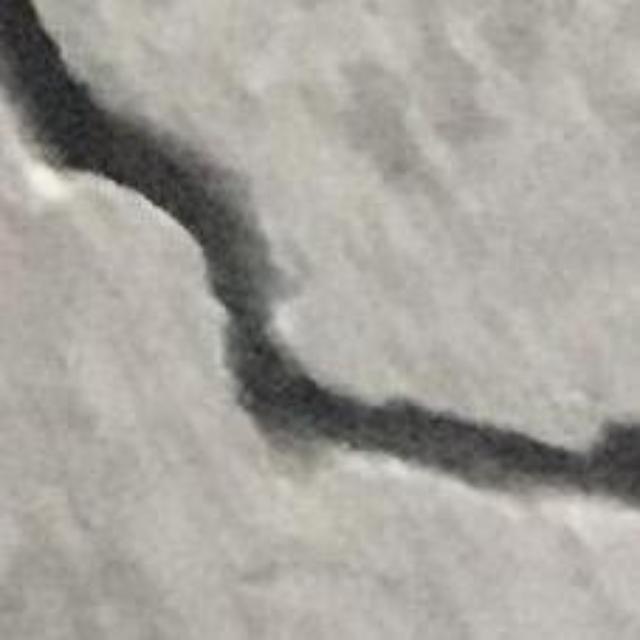crack: (0, 0, 639, 504)
